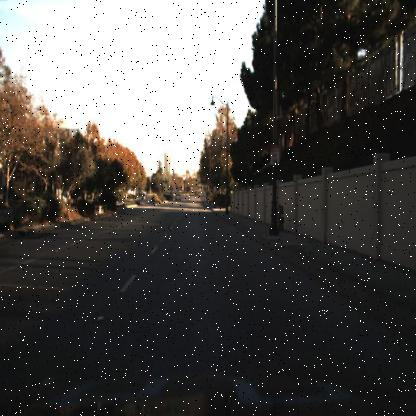car: (172, 190, 184, 209)
